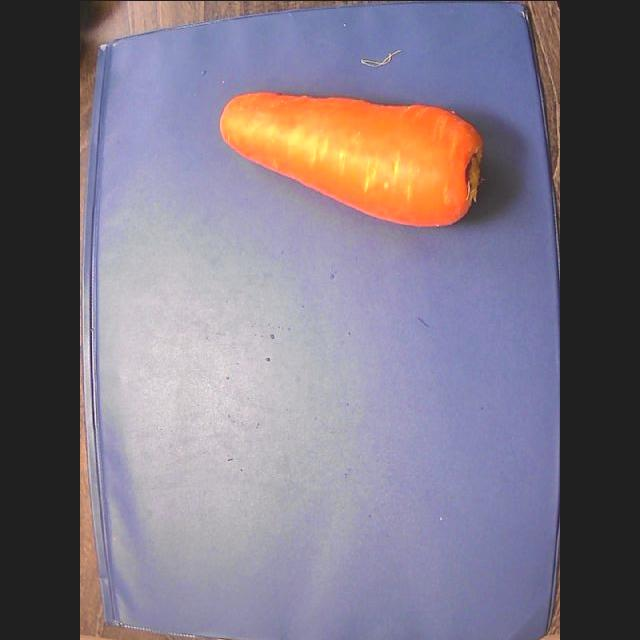zanahoria: (219, 91, 482, 226)
